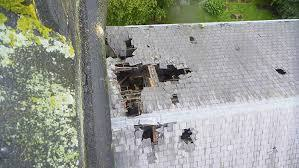sagging_roof: (98, 33, 192, 122)
